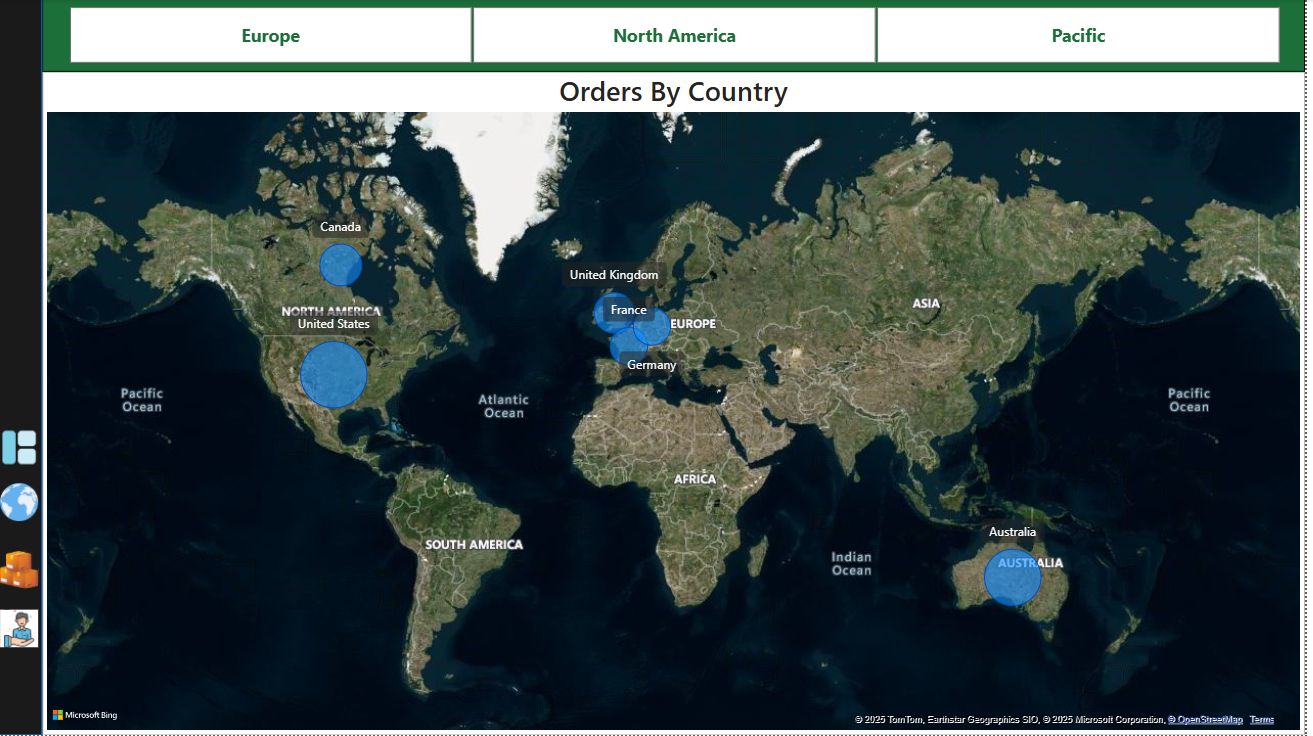

This screenshot's page, from the dashboard's own definition file:
{"tool":"powerbi","page":{"name":"map","canvas":[1280,720],"ordinal":1},"visuals":[{"type":"map","title":"Orders By Country","fields":{"Category":["Territory Lookup.Country"],"Size":["Tables Measures.total orders"]},"box":[45.2,70.9,1235.1,649.3],"z":0},{"type":"actionButton","box":[0,409.6,45.2,57.5],"z":0,"group":"g1"},{"type":"slicer","fields":{"Values":["Territory Lookup.Continent"]},"box":[45.2,0,1235.1,70.9],"z":1000},{"type":"actionButton","box":[0,467.1,45.2,50.1],"z":1000,"group":"g1"},{"type":"shape","box":[0,0,45.2,720.2],"z":2000},{"type":"actionButton","box":[0,529.4,45.2,57.5],"z":2000,"group":"g1"},{"type":"group","id":"g1","title":"Group 1","box":[0,409.6,45.2,234.8],"z":3000},{"type":"actionButton","box":[0,586.9,45.2,57.5],"z":3000,"group":"g1"}]}

Visuals, with their boxes on the page's 1280x720 design canvas (x1, y1, x2, y2). These are canvas units, not pixel positions in the 1313x736 screenshot, which may show the page scaled, cropped or inside an application window:
"Orders By Country" map: [45, 71, 1280, 720]
actionButton: [0, 410, 45, 467]
slicer - Territory Lookup.Continent: [45, 0, 1280, 71]
actionButton: [0, 467, 45, 517]
shape: [0, 0, 45, 720]
actionButton: [0, 529, 45, 587]
"Group 1" group: [0, 410, 45, 644]
actionButton: [0, 587, 45, 644]
